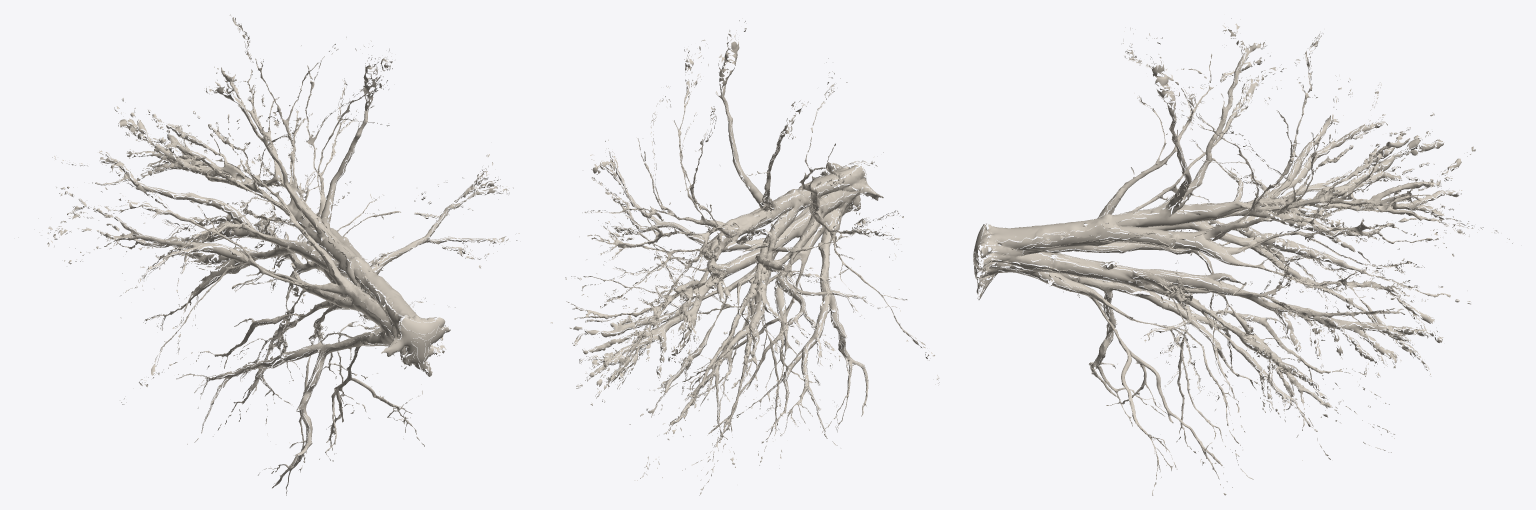
File: tree_1_cand03.glb
The picture shows the model from 3 angles, left to right: view 1: azimuth 30°, elevation 25°; view 2: azimuth 150°, elevation 25°; view 3: azimuth 270°, elevation 25°; orthographic projection. The views are drawn at different scales.
Parts seen in each view (by area): view 1: world; view 2: world; view 3: world.
Boxes of the visible parts, <box> form: world: <box>18,14,519,495</box>; world: <box>550,18,939,495</box>; world: <box>973,18,1512,495</box>.
Bounding box in the file's own units: 1.83 × 1.96 × 2.1.
